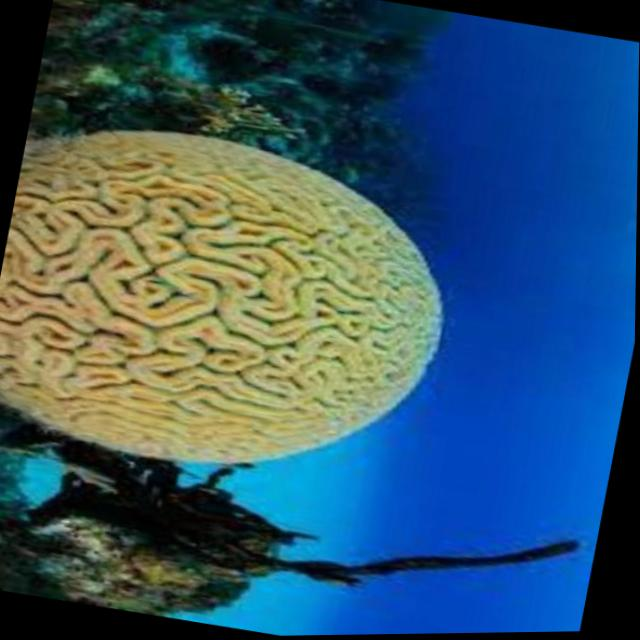Healthy Coral: (0, 68, 495, 521)
